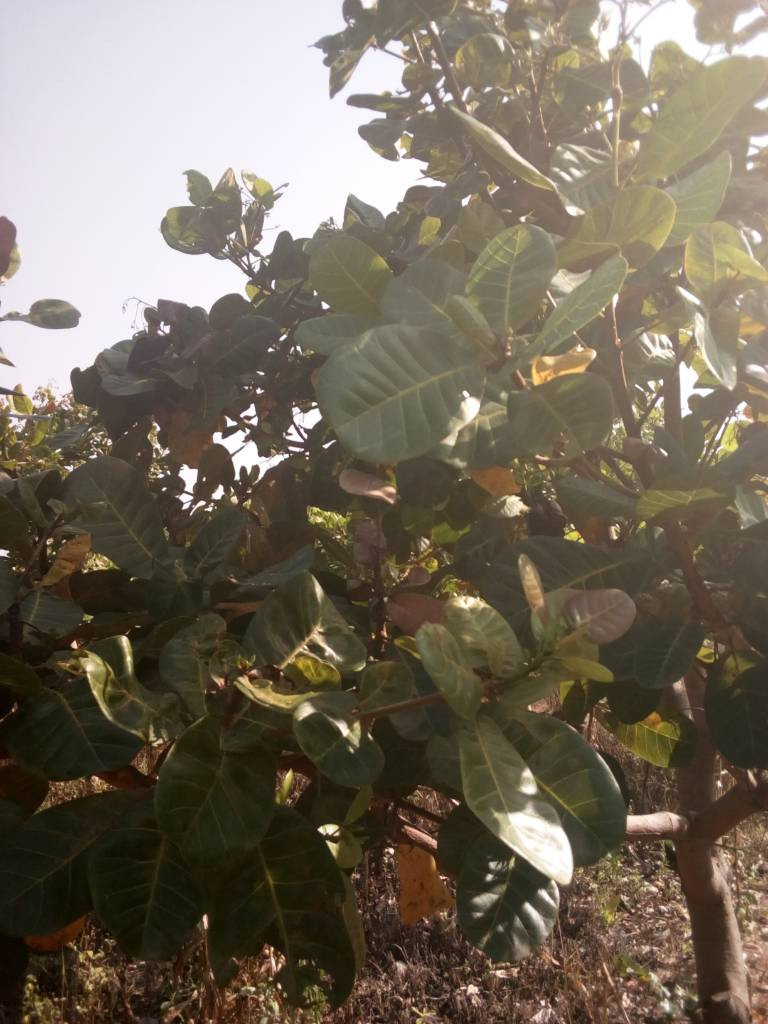Helopeltis anacardii: (319, 324, 482, 463), (416, 616, 494, 711)
